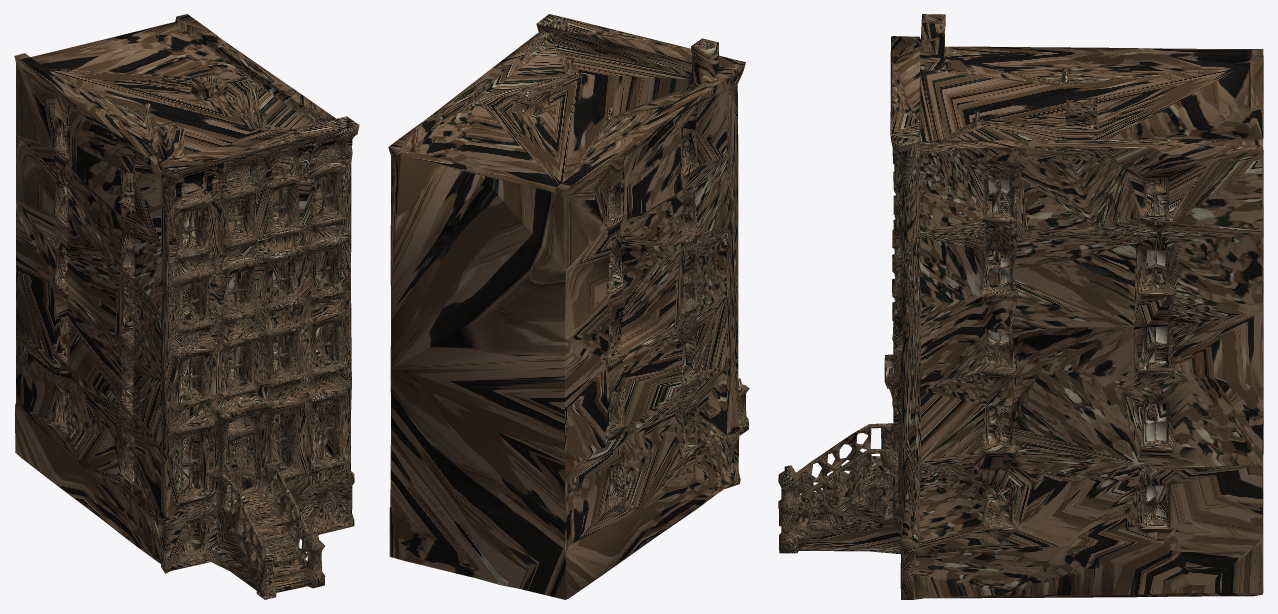
Rendered from semantic-primitive-v01.fbx.
3 renders of one model, left to right at view 1: azimuth 30°, elevation 25°; view 2: azimuth 150°, elevation 25°; view 3: azimuth 270°, elevation 25°, orthographic. The views are drawn at different scales.
Parts seen in each view (by area): view 1: CF_PROXY_BUILDING_GENERATED; view 2: CF_PROXY_BUILDING_GENERATED; view 3: CF_PROXY_BUILDING_GENERATED.
Boxes of the visible parts, x1,y1,x2,y2 form: CF_PROXY_BUILDING_GENERATED: [14, 14, 359, 599]; CF_PROXY_BUILDING_GENERATED: [388, 14, 749, 599]; CF_PROXY_BUILDING_GENERATED: [778, 14, 1263, 599].
Size of the model in its own units: 699 by 1499 by 1346.
